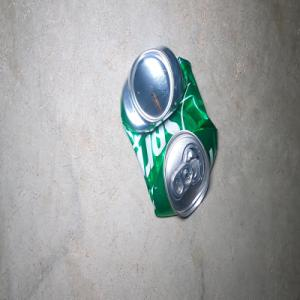SodaCan: (120, 46, 217, 218)
